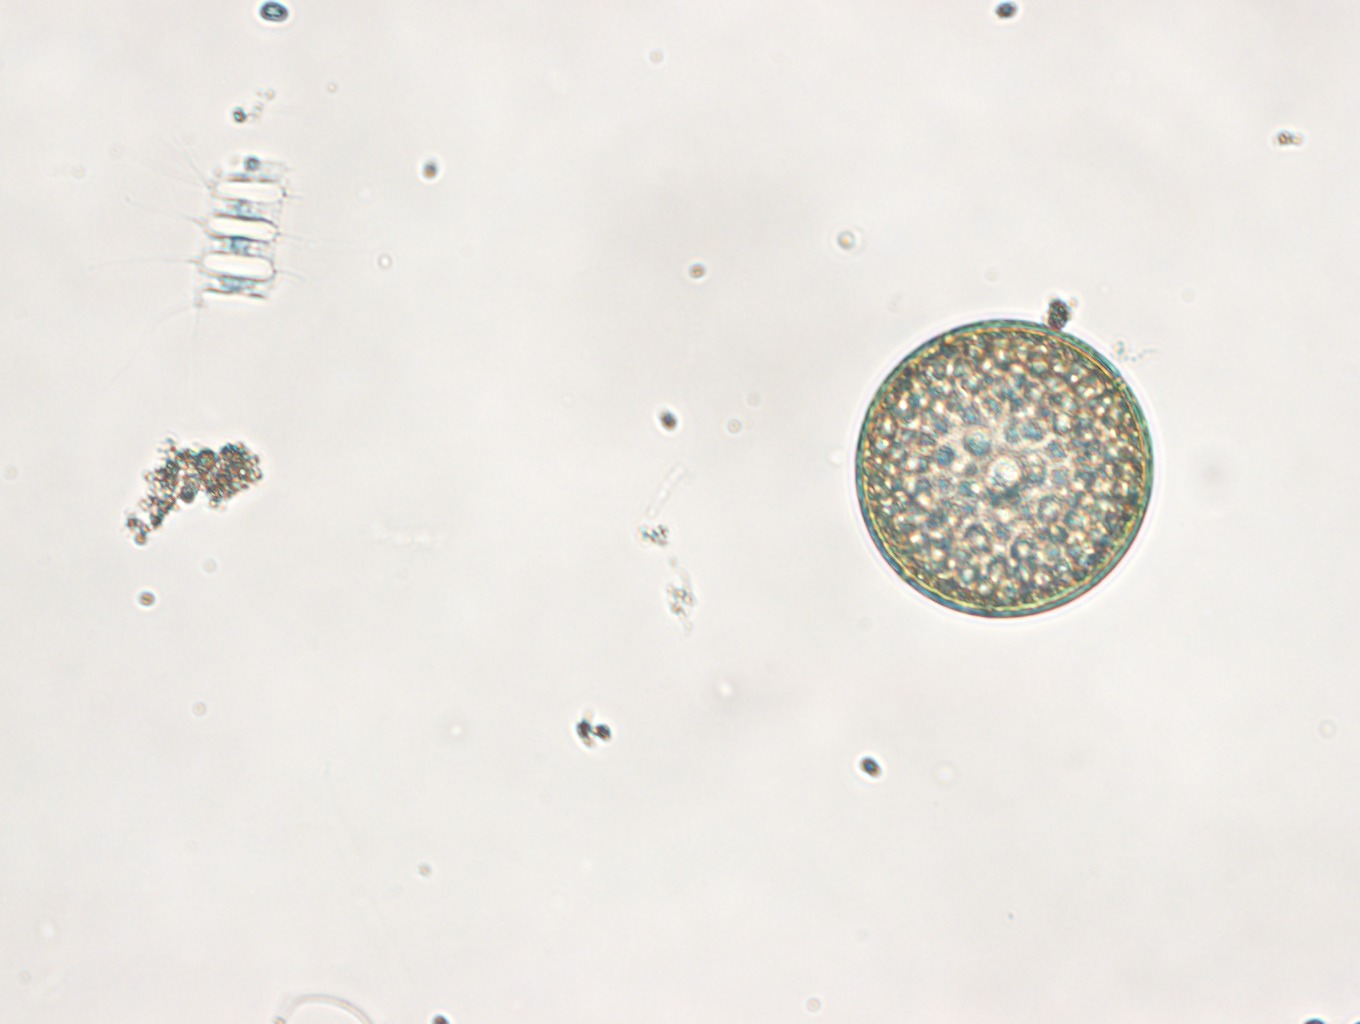chaetoceros: (135, 136, 315, 327)
coscinodiscus: (851, 314, 1154, 622)
